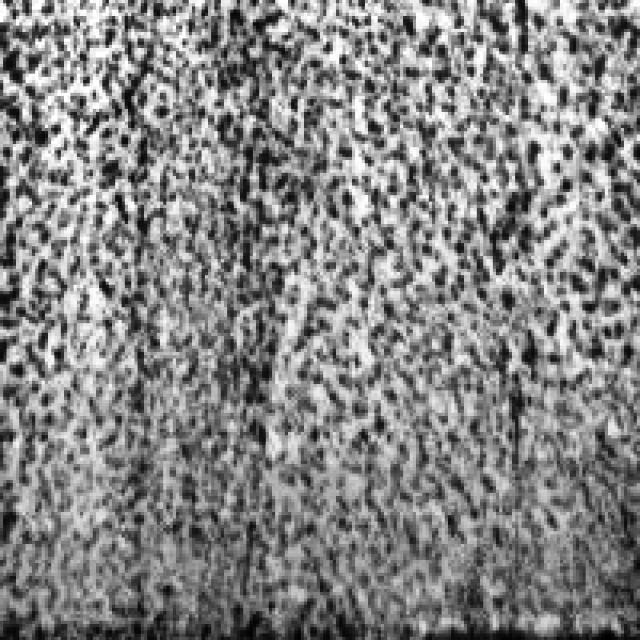Rolled_in_Scale: (12, 0, 634, 621)
